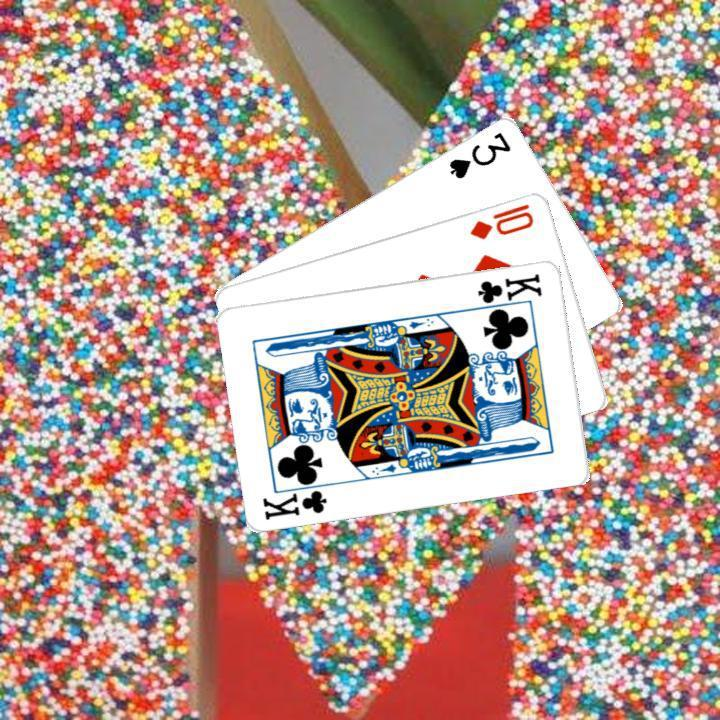10: (466, 199, 536, 241)
3: (445, 127, 513, 181)
K: (259, 477, 335, 521), (469, 269, 544, 313)
